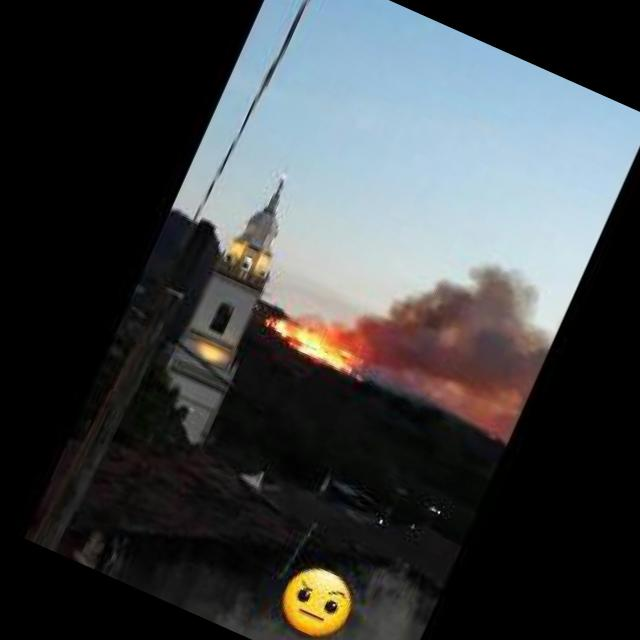fire: (258, 308, 369, 382)
smoke: (337, 216, 573, 437)
